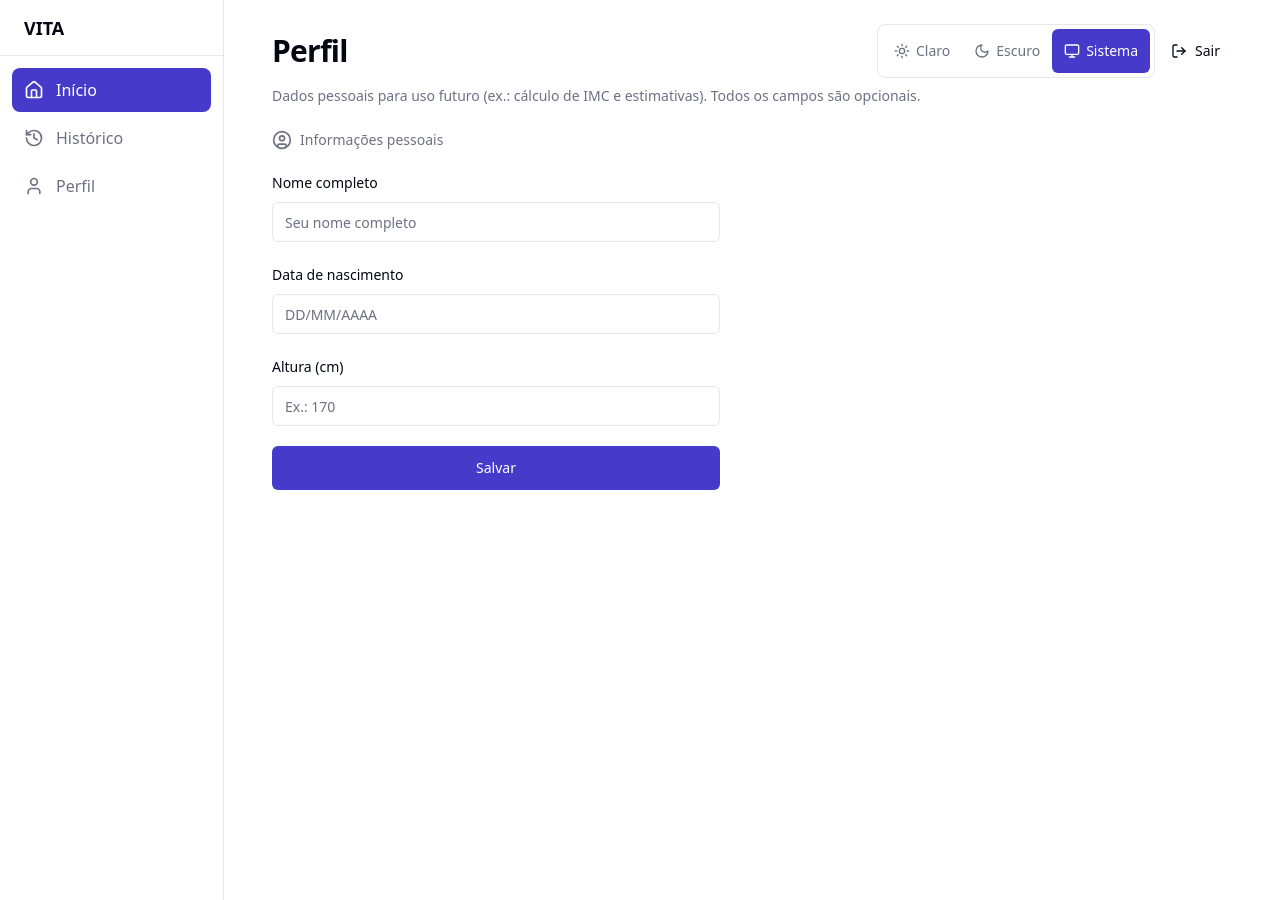
Profile › bloqueia salvar com altura fora da faixa e exibe erro
Type "10" into the field labelled "Altura (cm)" at [496, 406], box [272,386,720,426]
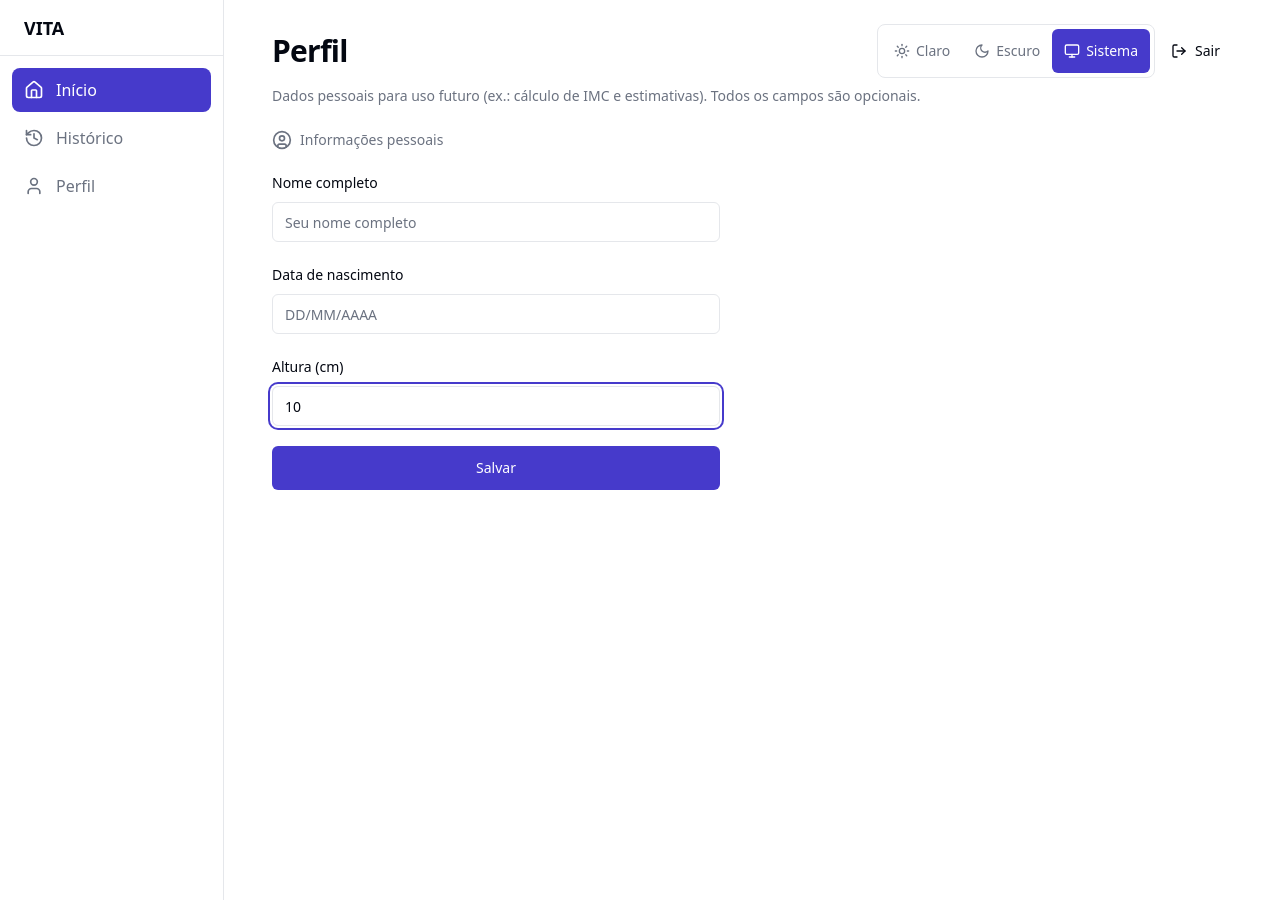
Click the button "Salvar" at [496, 468], box [272,446,720,490]
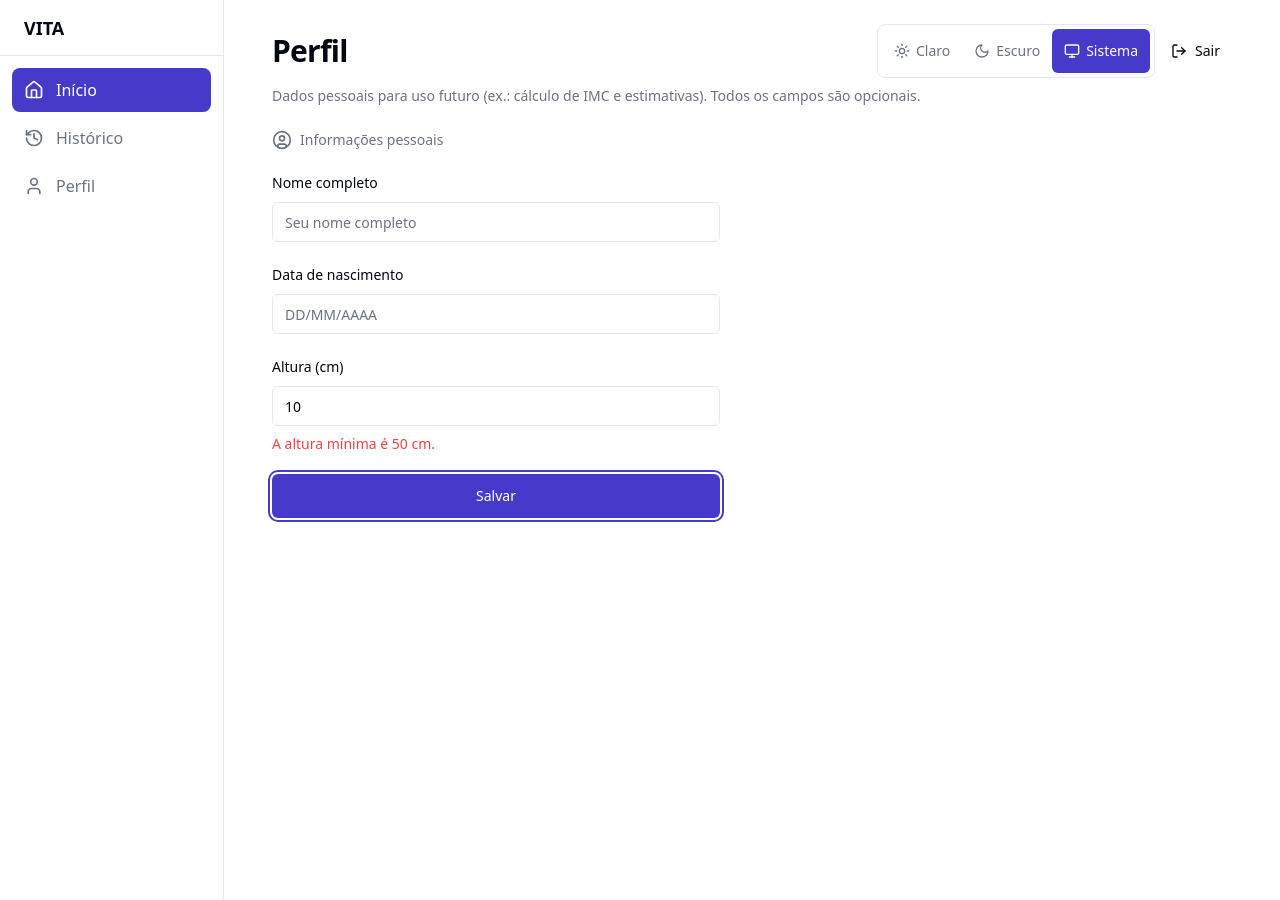
Expected: the text "A altura mínima é 50 cm." is shown, [272,434,435,453]
